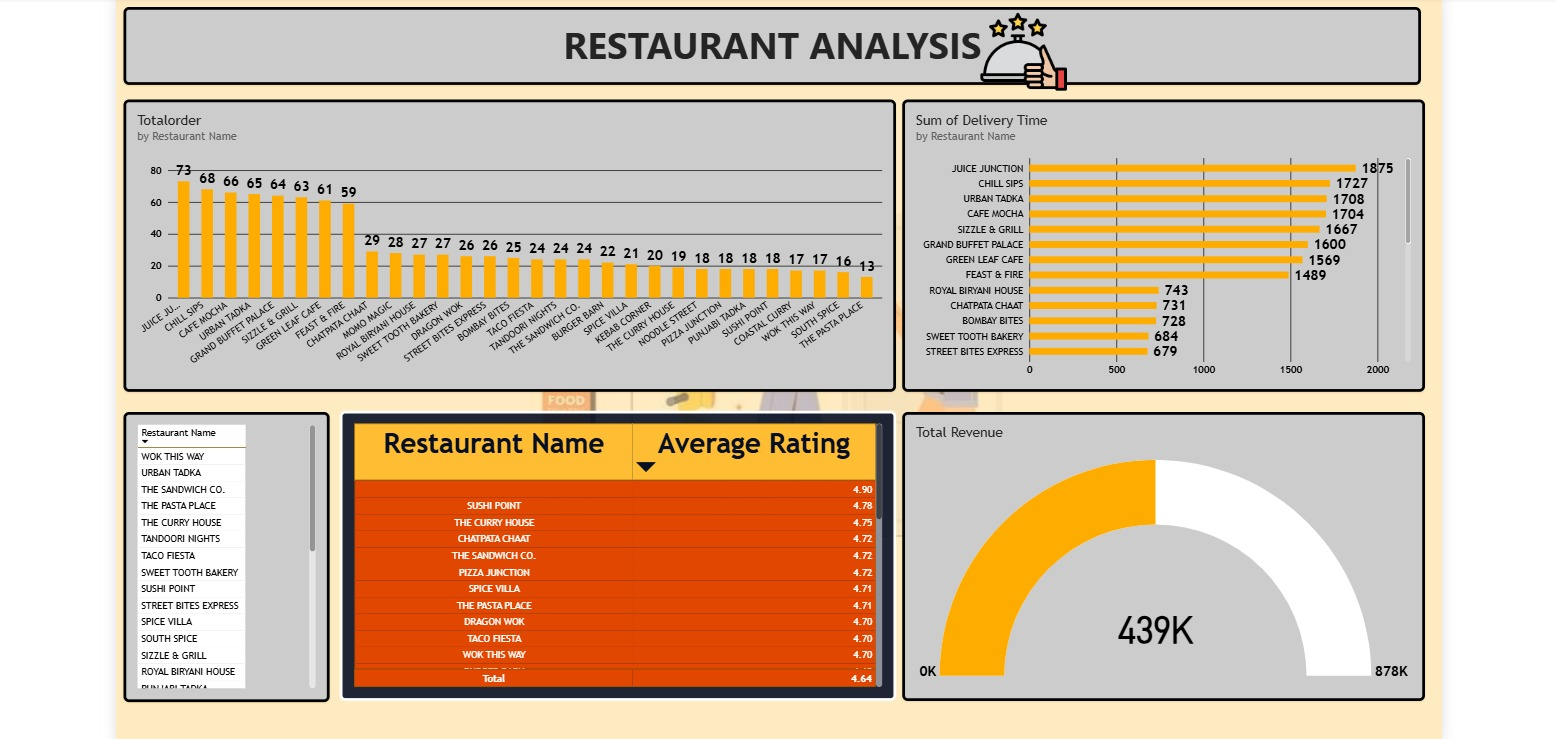

The page's visual inventory and layout, read from the dashboard file:
{"tool":"powerbi","page":{"name":"Restaurant Analysis","canvas":[1920,1080],"ordinal":2},"visuals":[{"type":"textbox","box":[10.4,14.6,1878.5,112.6],"z":0},{"type":"columnChart","fields":{"Category":["Order Table.Restaurant Name"],"Y":["Delivery Table.Totalorder"]},"box":[10.9,148.2,1118.3,422.9],"z":1000},{"type":"tableEx","fields":{"Values":["Order Table.Restaurant Name"]},"box":[10,600,298,420],"z":2000},{"type":"gauge","fields":{"Y":["Delivery Table.Total Revenue"]},"box":[1138.3,600.8,756.4,418],"z":3000},{"type":"tableEx","fields":{"Values":["Order Table.Restaurant Name","Delivery Table.Average Rating"]},"box":[323.9,599,805.3,419.8],"z":4000},{"type":"barChart","fields":{"Category":["Order Table.Restaurant Name"],"Y":["Sum(Delivery Table.Delivery Time)"]},"box":[1138.3,148.4,756.4,423.5],"z":5000},{"type":"image","box":[1173.8,14.6,279.4,133.4],"z":6000}]}

Visuals, with their boxes on the page's 1920x1080 design canvas (x1, y1, x2, y2). These are canvas units, not pixel positions in the 1556x739 screenshot, which may show the page scaled, cropped or inside an application window:
textbox: locate(10, 15, 1889, 127)
columnChart - Order Table.Restaurant Name x Delivery Table.Totalorder: locate(11, 148, 1129, 571)
tableEx - Order Table.Restaurant Name: locate(10, 600, 308, 1020)
gauge - Delivery Table.Total Revenue: locate(1138, 601, 1895, 1019)
tableEx - Order Table.Restaurant Name x Delivery Table.Average Rating: locate(324, 599, 1129, 1019)
barChart - Order Table.Restaurant Name x Sum(Delivery Table.Delivery Time): locate(1138, 148, 1895, 572)
image: locate(1174, 15, 1453, 148)
